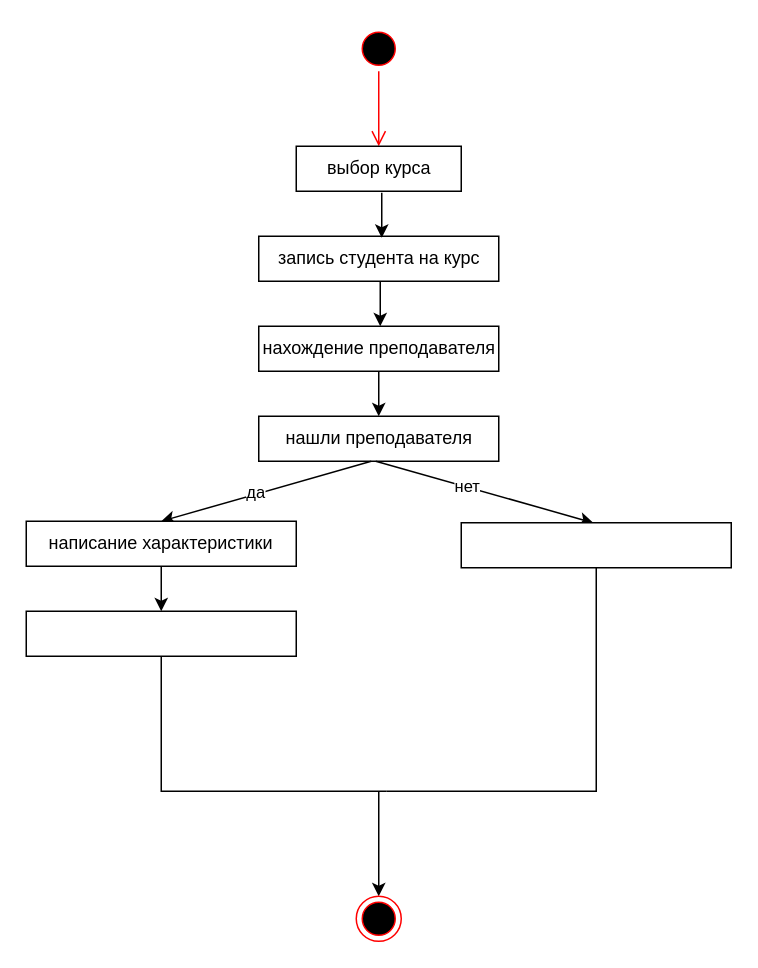
The diagram is 758 pixels wide and 968 high, and some of its shapes have lost their labels. The shapes that lost their labels are listed below. From the top down, each one's box as (x1, y1, x2, y2) in pixels, then its label:
(460, 521, 731, 568): вывести сообщение, что преподаватель не найден
(25, 610, 296, 656): отдать характеристику студенту
